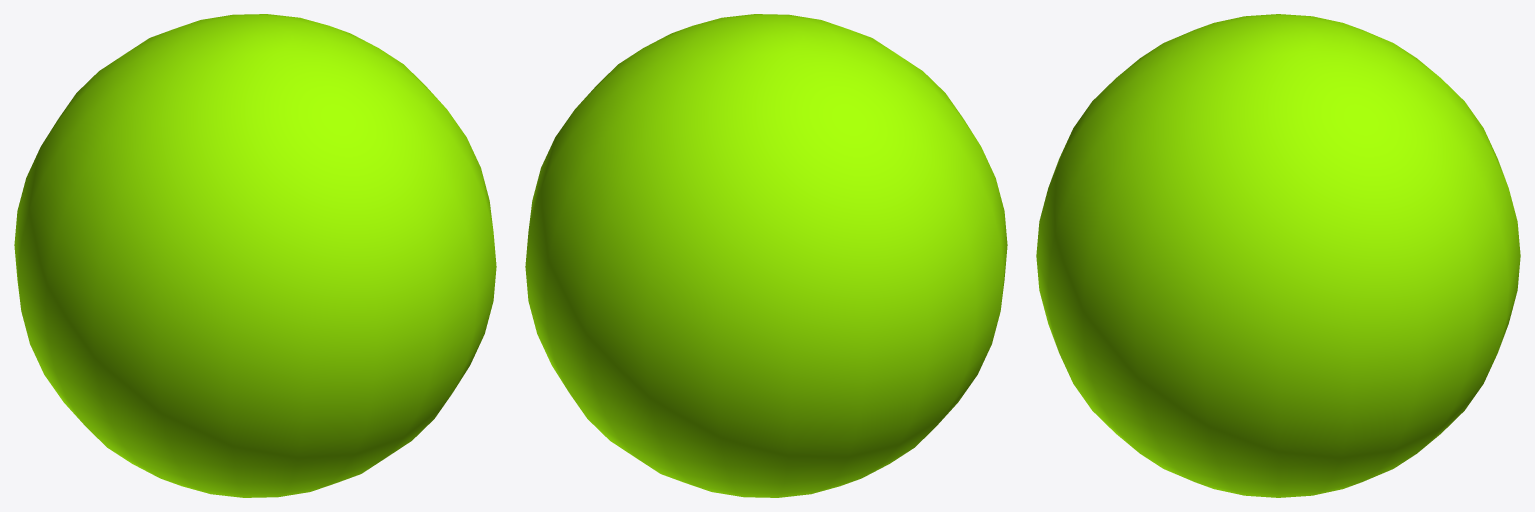
The model's file is LifeOrbExpo2.fbx.
3 renders of one model, left to right at view 1: azimuth 30°, elevation 25°; view 2: azimuth 150°, elevation 25°; view 3: azimuth 270°, elevation 25°, orthographic.
Visible parts, largest first — view 1: pSphere1; view 2: pSphere1; view 3: pSphere1.
Part boxes in pixels (<box>): pSphere1: <box>14,14,496,497</box>; pSphere1: <box>525,14,1007,497</box>; pSphere1: <box>1036,14,1520,497</box>.
Size of the model in its own units: 2 by 2 by 2.
